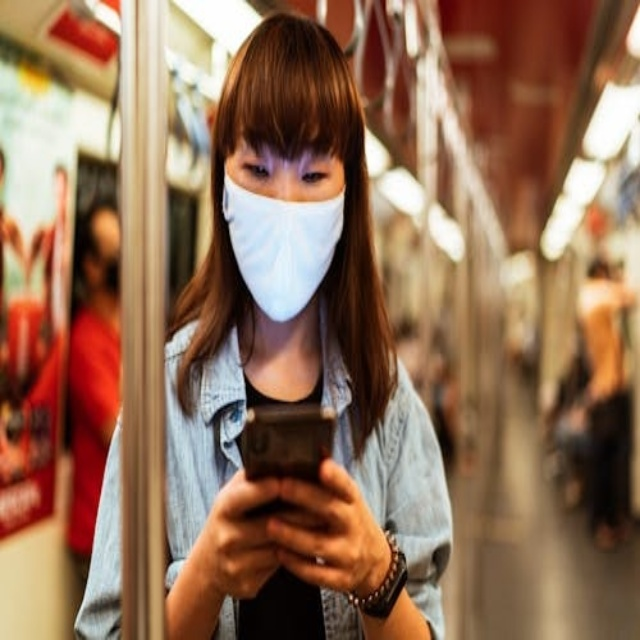Mascara: (222, 163, 347, 323)
Sin_gafas: (233, 135, 342, 196)
Sin_guantes: (265, 457, 387, 600), (201, 444, 283, 602)
